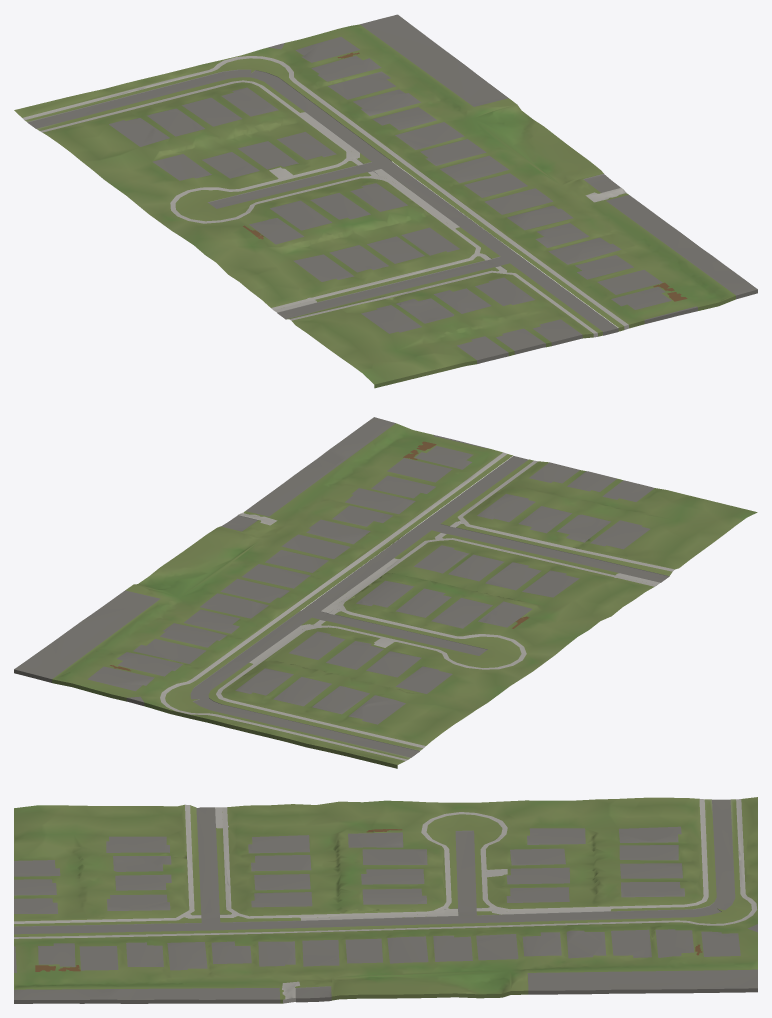
The picture shows the model from 3 angles, top to bottom: view 1: azimuth 30°, elevation 25°; view 2: azimuth 150°, elevation 25°; view 3: azimuth 270°, elevation 25°; orthographic projection. The views are drawn at different scales.
Visible parts, largest first — view 1: T--4-0.L1:utd:matte; view 2: T--4-0.L1:utd:matte; view 3: T--4-0.L1:utd:matte.
Part boxes in pixels (x1,y1,x2,y2): T--4-0.L1:utd:matte: (14, 14, 757, 388); T--4-0.L1:utd:matte: (14, 417, 757, 768); T--4-0.L1:utd:matte: (14, 797, 757, 1003).
Size of the model in its own units: 157 by 8.14 by 256.
